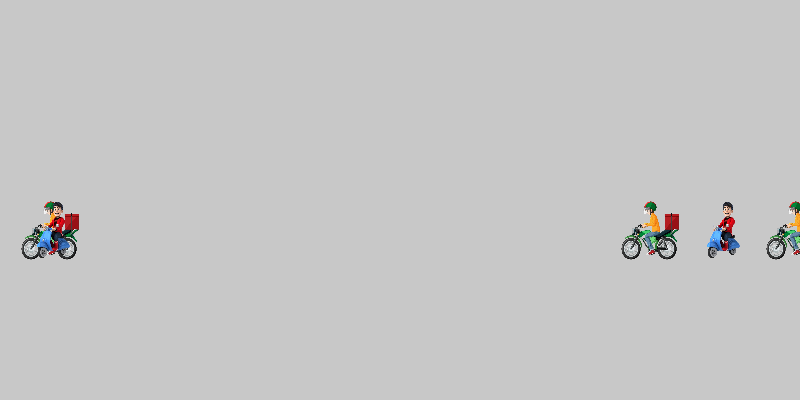helmet: (20, 200, 80, 260), (620, 200, 680, 260), (765, 200, 800, 260)
no_helmet: (25, 200, 85, 260), (695, 200, 755, 260)
